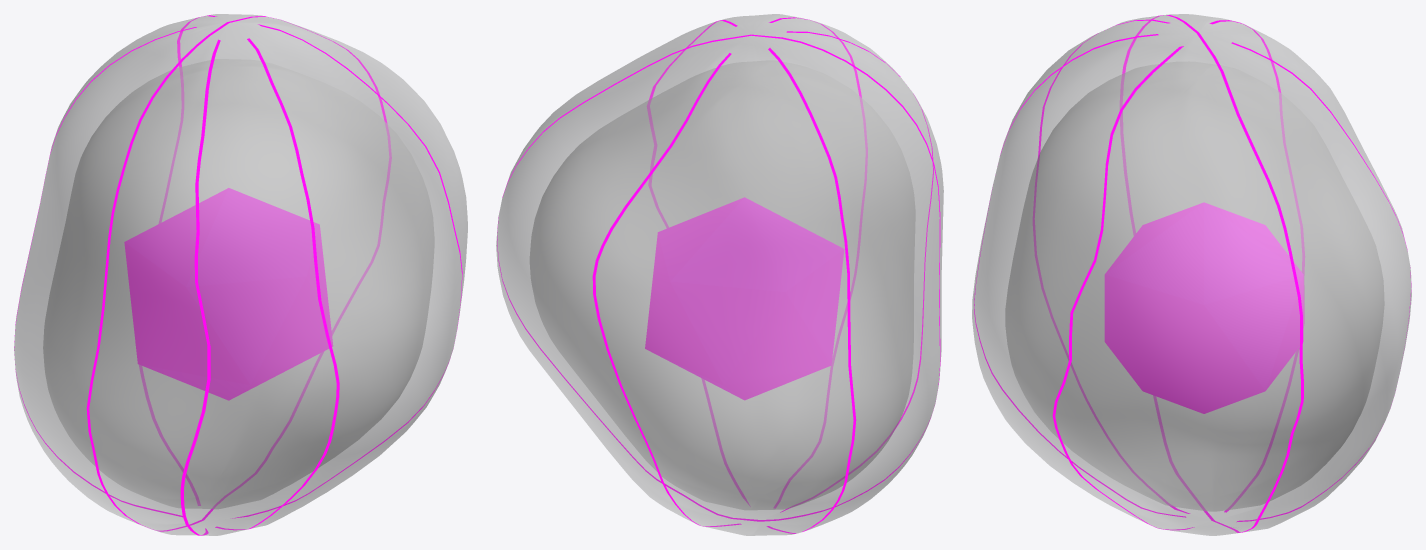
The model's file is collectible.fbx.
3 renders of one model, left to right at view 1: azimuth 30°, elevation 25°; view 2: azimuth 150°, elevation 25°; view 3: azimuth 270°, elevation 25°, orthographic. The views are drawn at different scales.
Parts seen in each view (by area): view 1: orb_external, orb_internal; view 2: orb_external, orb_internal; view 3: orb_external, orb_internal.
Boxes of the visible parts, box(x1,y1,x2,y2) form: orb_external: box(14, 14, 467, 535); orb_internal: box(124, 188, 332, 400); orb_external: box(496, 14, 943, 535); orb_internal: box(645, 197, 843, 399); orb_external: box(972, 14, 1411, 535); orb_internal: box(1105, 202, 1303, 413).
Bounding box in the file's own units: 230 × 247 × 287.
